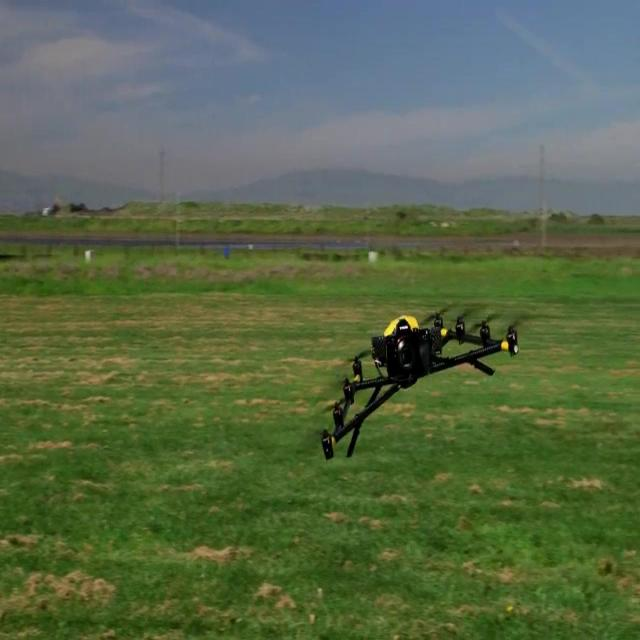drone: (320, 298, 520, 462)
